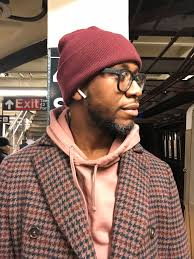earphone: (72, 85, 86, 100)
